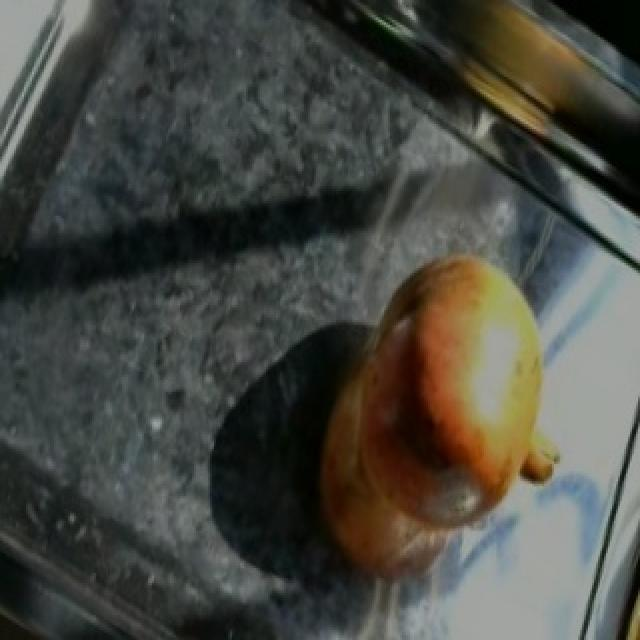fruit: (322, 221, 590, 504)
